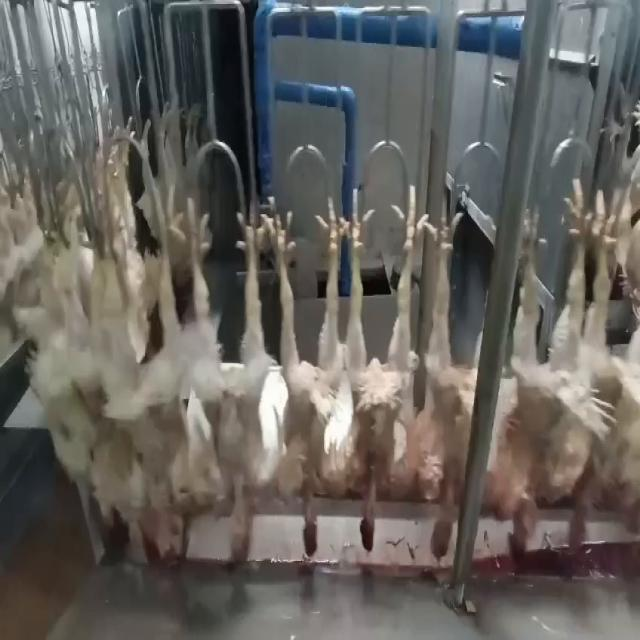chicken: (546, 182, 632, 559), (46, 160, 121, 556), (268, 194, 347, 561), (120, 180, 188, 572), (350, 182, 420, 557), (196, 196, 264, 577), (408, 196, 470, 564), (482, 214, 542, 574), (6, 152, 42, 403)
